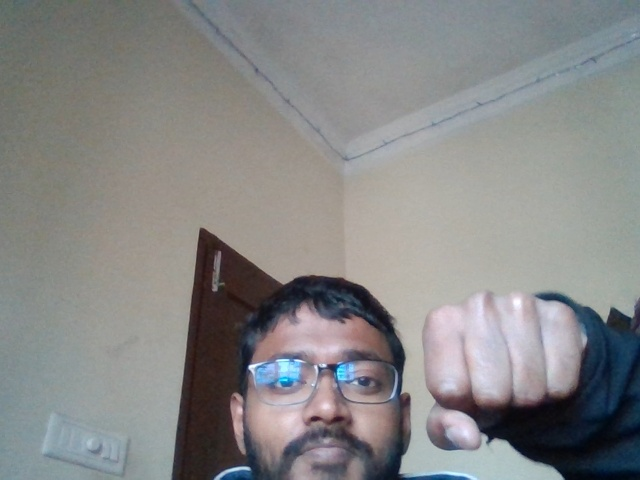yes: (407, 281, 604, 452)
